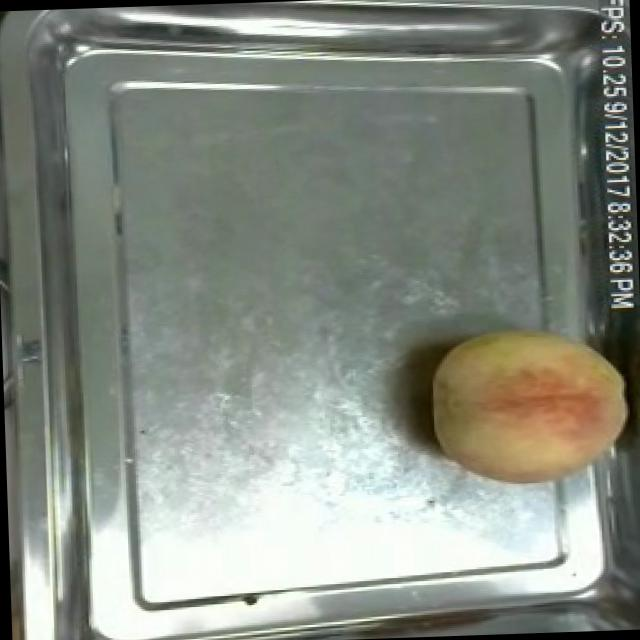Fruit: (419, 314, 639, 501)
